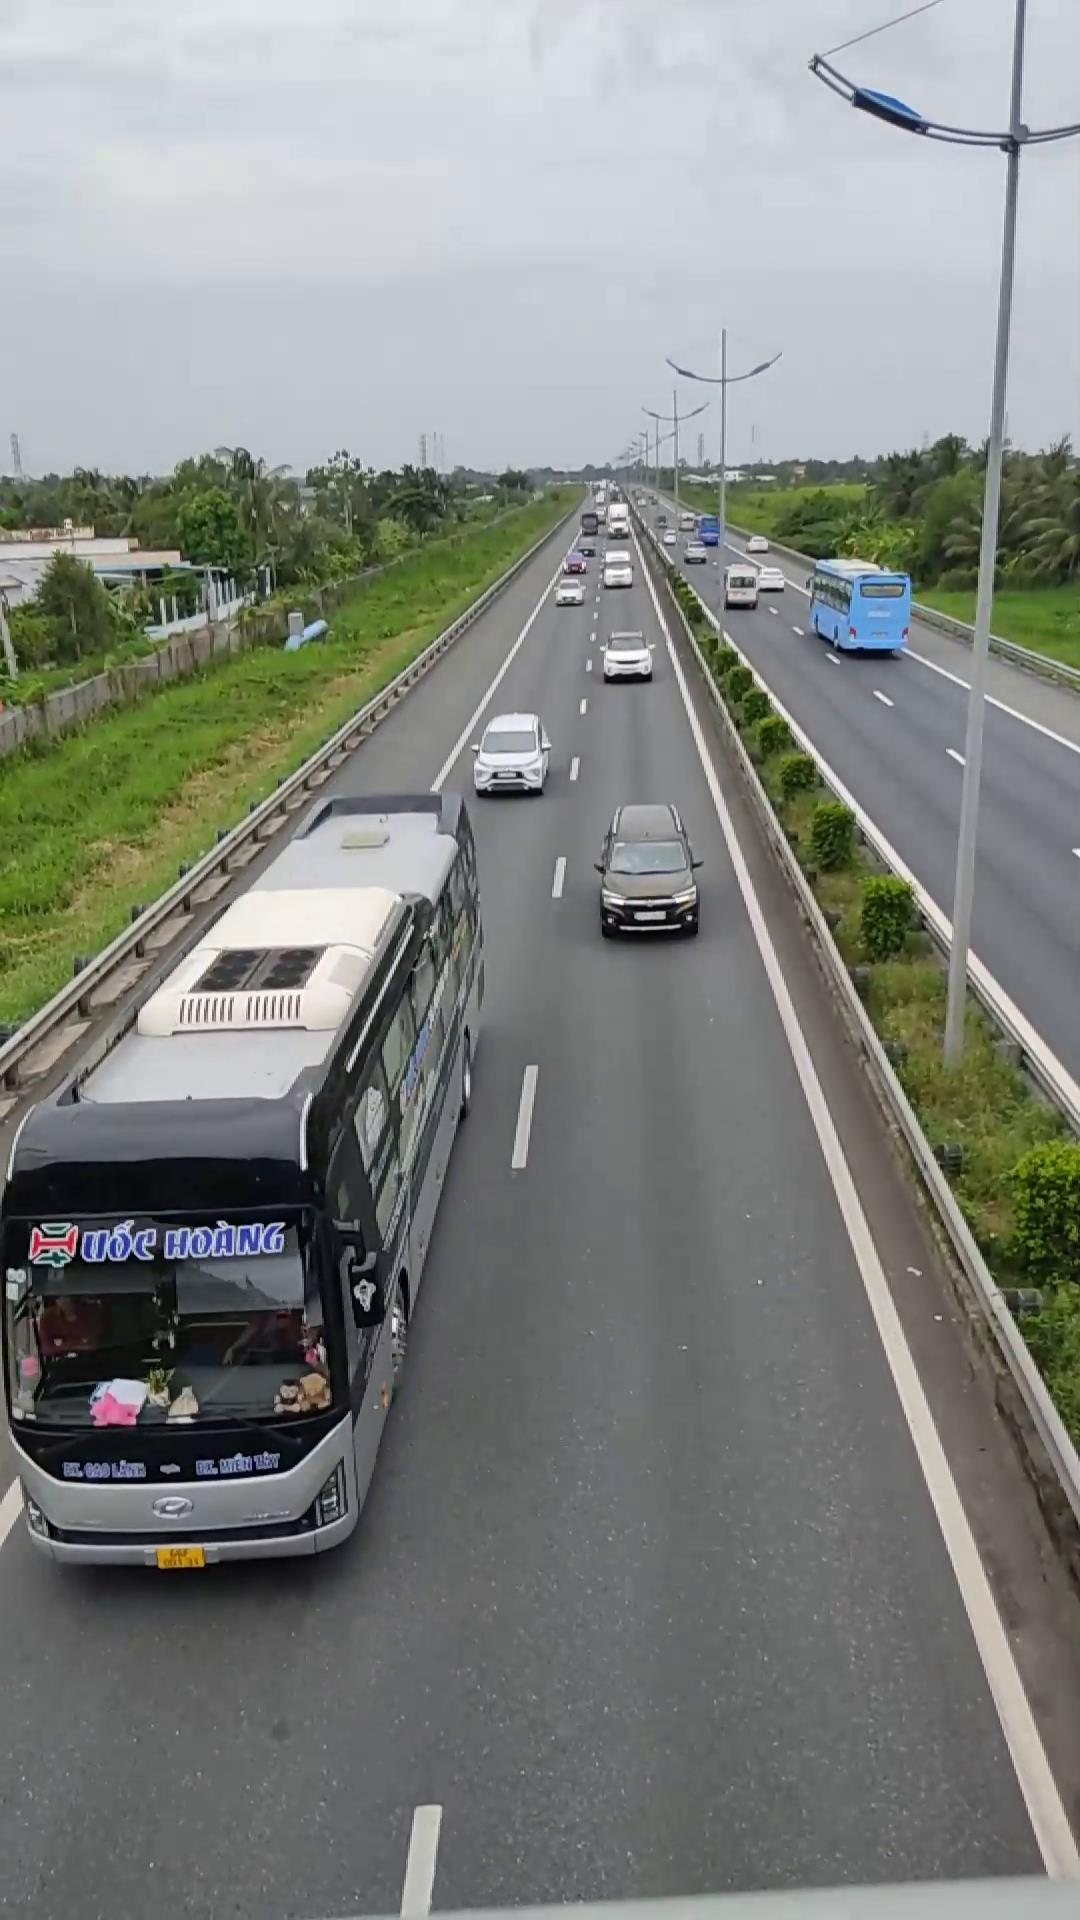bus: (0, 793, 483, 1567)
car: (593, 802, 701, 936), (471, 712, 552, 795)
